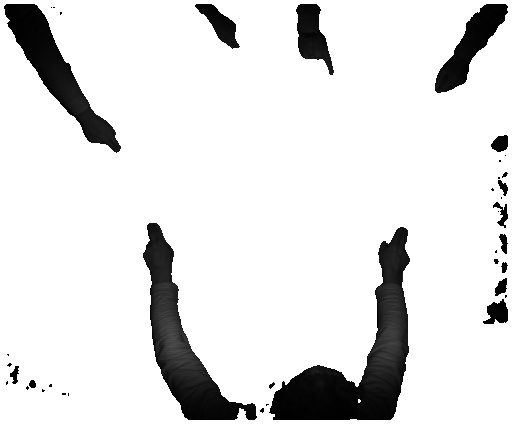fist: (432, 55, 472, 95)
hand: (136, 216, 175, 280), (79, 114, 127, 159), (376, 224, 415, 278), (296, 33, 335, 79), (211, 14, 239, 55)
